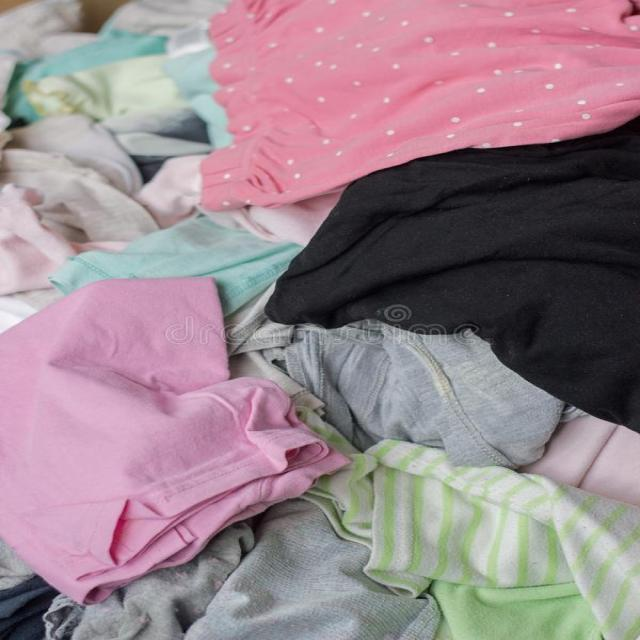clothes: (38, 30, 612, 623)
